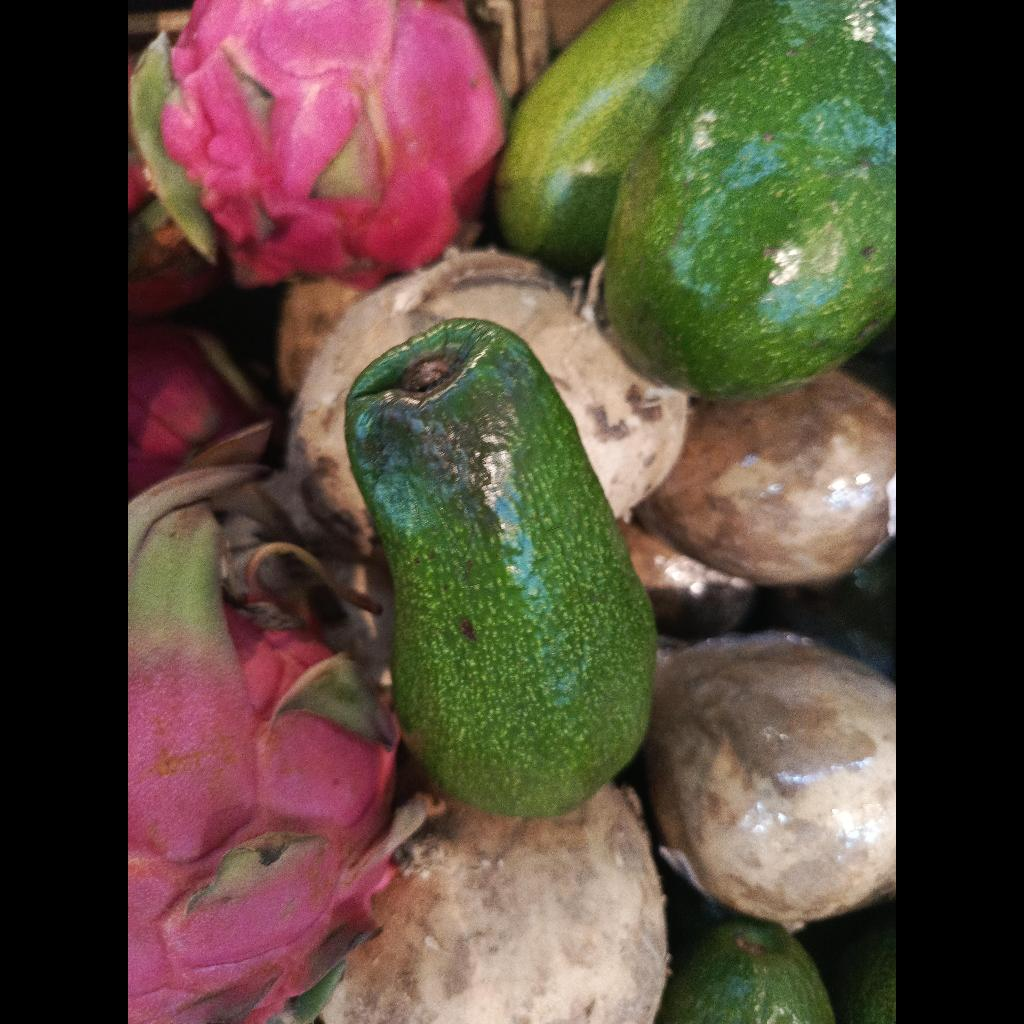pudricion_peduncular: (346, 319, 656, 816)
